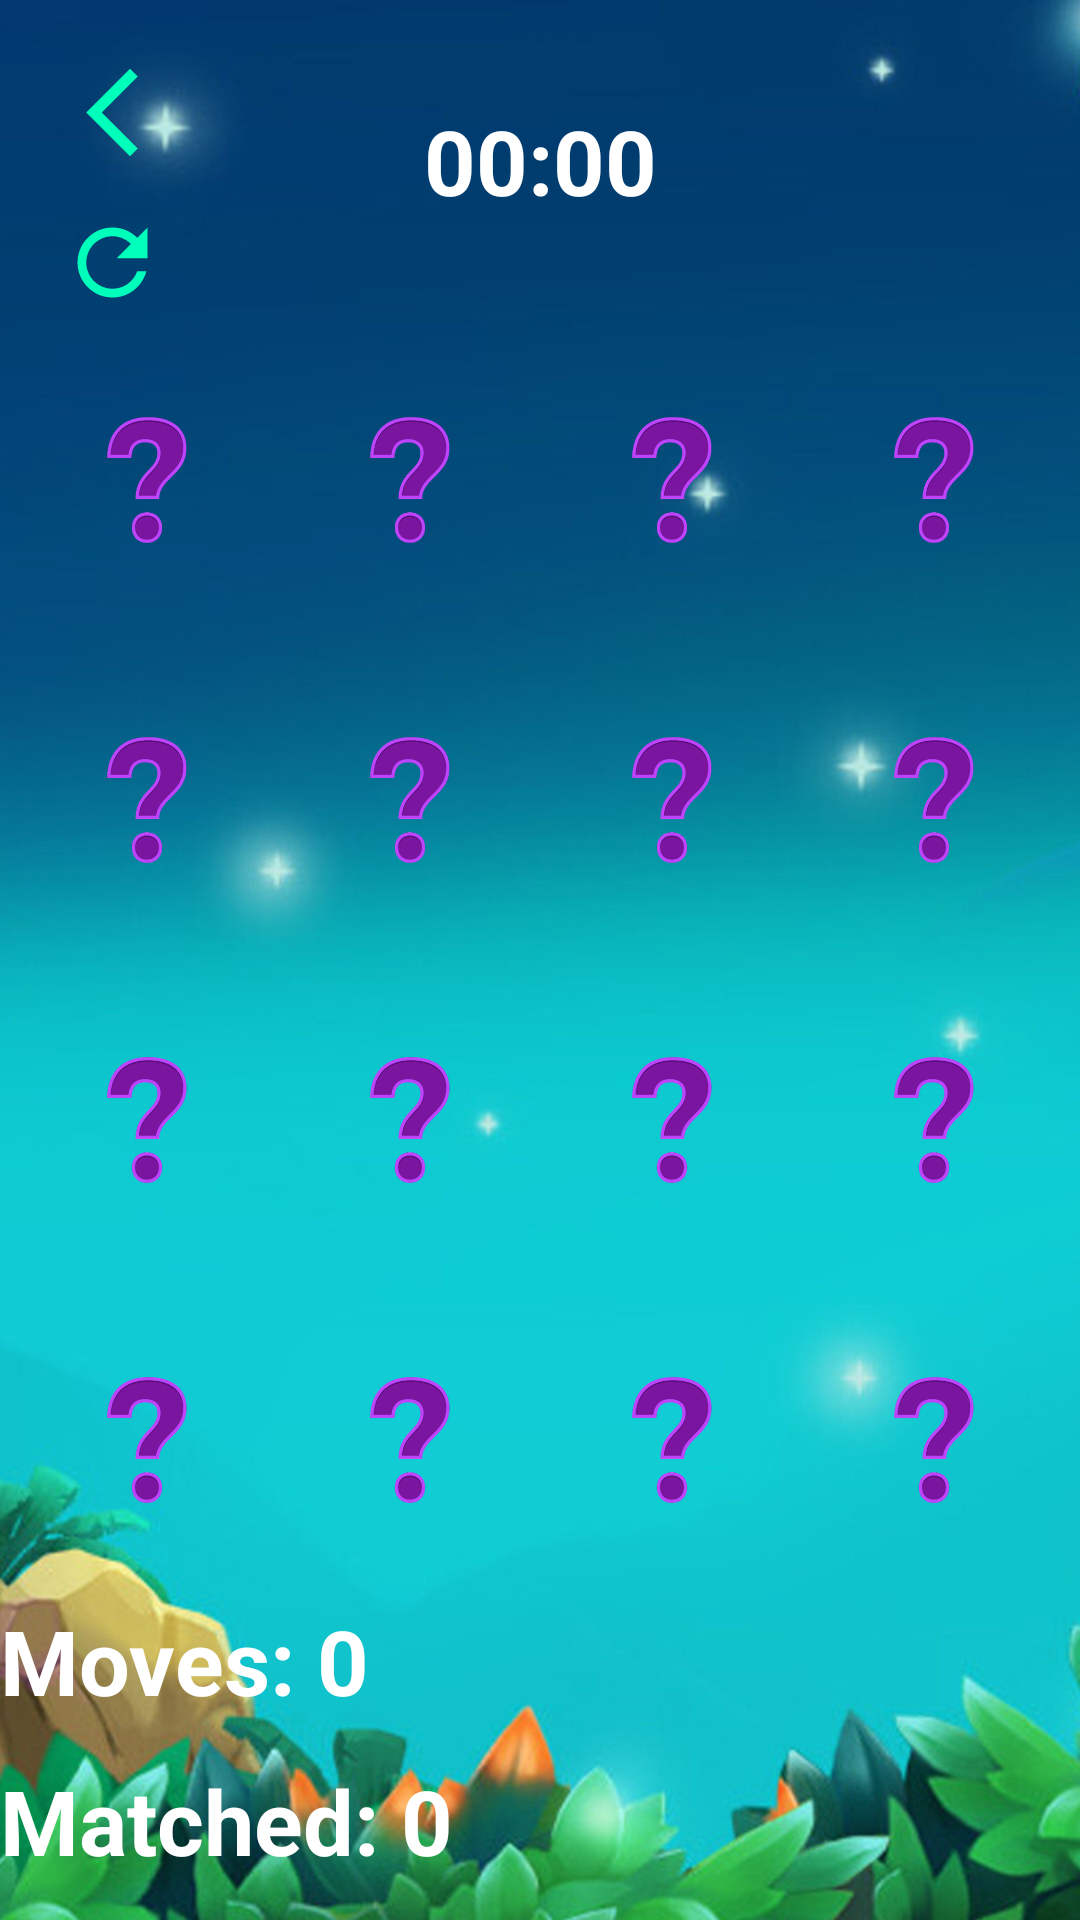

Where icons sit on this 1080x1920 app screen, as (x1, y1, x2, y2):
arrow back: (86, 68, 165, 165)
refresh: (77, 227, 148, 298)
